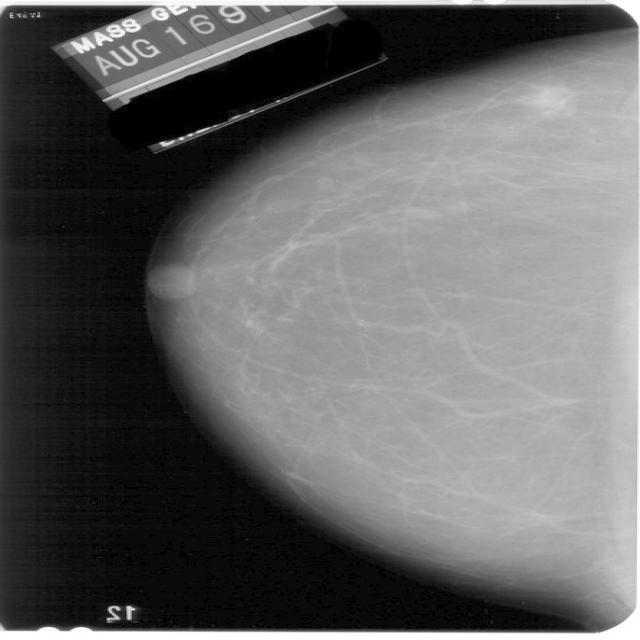tumour: (517, 82, 581, 115)
